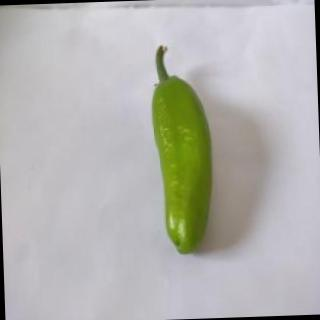Cabai Hijau: (144, 38, 224, 261)
